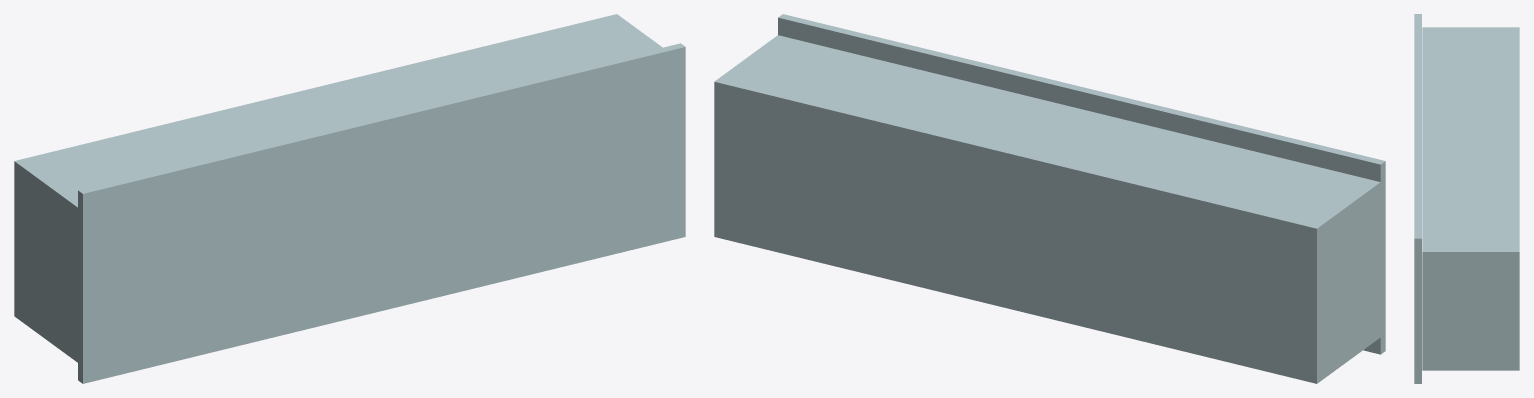
The model's file is countertop_collision.obj.
3 renders of one model, left to right at view 1: azimuth 30°, elevation 25°; view 2: azimuth 150°, elevation 25°; view 3: azimuth 270°, elevation 25°, orthographic. The views are drawn at different scales.
Parts seen in each view (by area): view 1: kitchenBar_ID9.000, kitchenBar_ID9.007; view 2: kitchenBar_ID9.007, kitchenBar_ID9.000; view 3: kitchenBar_ID9.007, kitchenBar_ID9.000.
Boxes of the visible parts, left/top/right/bottom form: kitchenBar_ID9.000: left=78, top=43, right=685, bottom=383; kitchenBar_ID9.007: left=14, top=14, right=662, bottom=362; kitchenBar_ID9.007: left=714, top=35, right=1380, bottom=383; kitchenBar_ID9.000: left=778, top=14, right=1385, bottom=354; kitchenBar_ID9.007: left=1422, top=27, right=1519, bottom=370; kitchenBar_ID9.000: left=1414, top=14, right=1421, bottom=383.
Size of the model in its own units: 3.77 by 1.14 by 0.7441.
